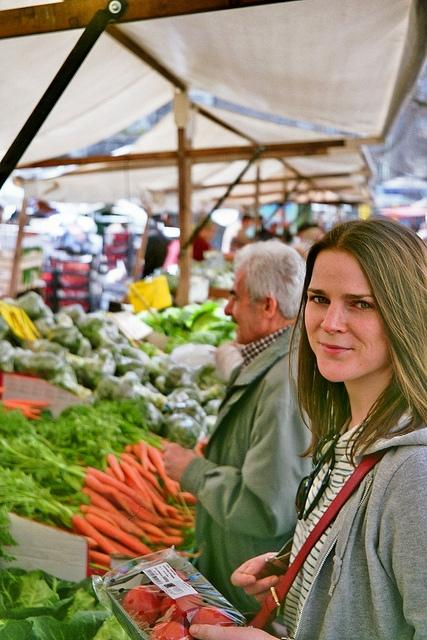carrot: (85, 467, 166, 525), (85, 512, 153, 556), (84, 474, 138, 519), (119, 452, 166, 500), (70, 514, 122, 556), (130, 465, 169, 517), (148, 446, 180, 500), (117, 509, 174, 539), (80, 487, 128, 522), (119, 458, 154, 506), (41, 522, 99, 550), (80, 505, 121, 530), (100, 534, 140, 558), (120, 491, 156, 516), (139, 471, 166, 504), (101, 508, 132, 532), (132, 443, 157, 472), (122, 498, 150, 522), (108, 454, 126, 482), (6, 398, 50, 408), (88, 551, 110, 566), (138, 441, 148, 473), (3, 400, 32, 410), (158, 526, 186, 536), (168, 508, 184, 522), (21, 410, 40, 420), (182, 492, 198, 503), (90, 568, 108, 575)
lettuce: (25, 615, 82, 640), (63, 587, 96, 625), (93, 615, 132, 640), (51, 594, 76, 622), (78, 578, 100, 603)
tomato: (122, 585, 162, 628), (160, 592, 205, 630), (152, 568, 190, 602), (191, 606, 235, 627), (149, 621, 193, 640)
